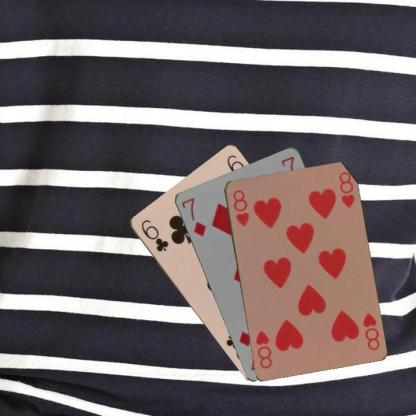6c: (138, 217, 170, 253)
7d: (178, 195, 208, 238)
8h: (360, 310, 381, 351), (230, 186, 250, 228)
